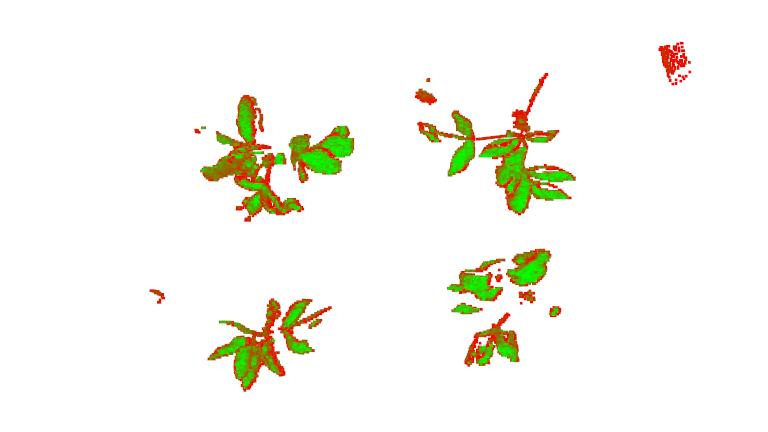mungbean: (193, 91, 360, 225), (414, 98, 580, 215), (447, 243, 558, 369), (208, 297, 336, 391)
